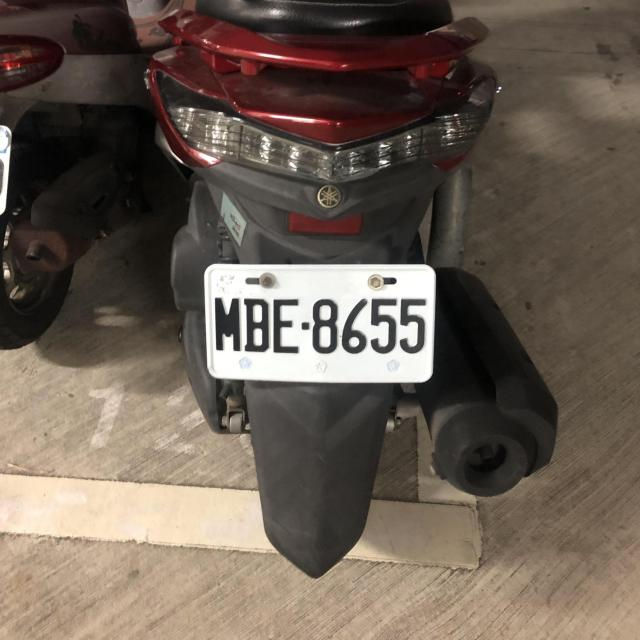W: (204, 261, 437, 383)
